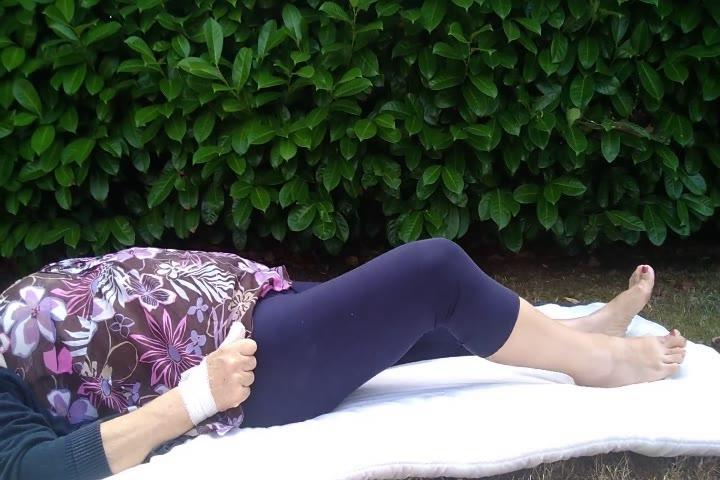lower_body: (232, 229, 692, 440)
